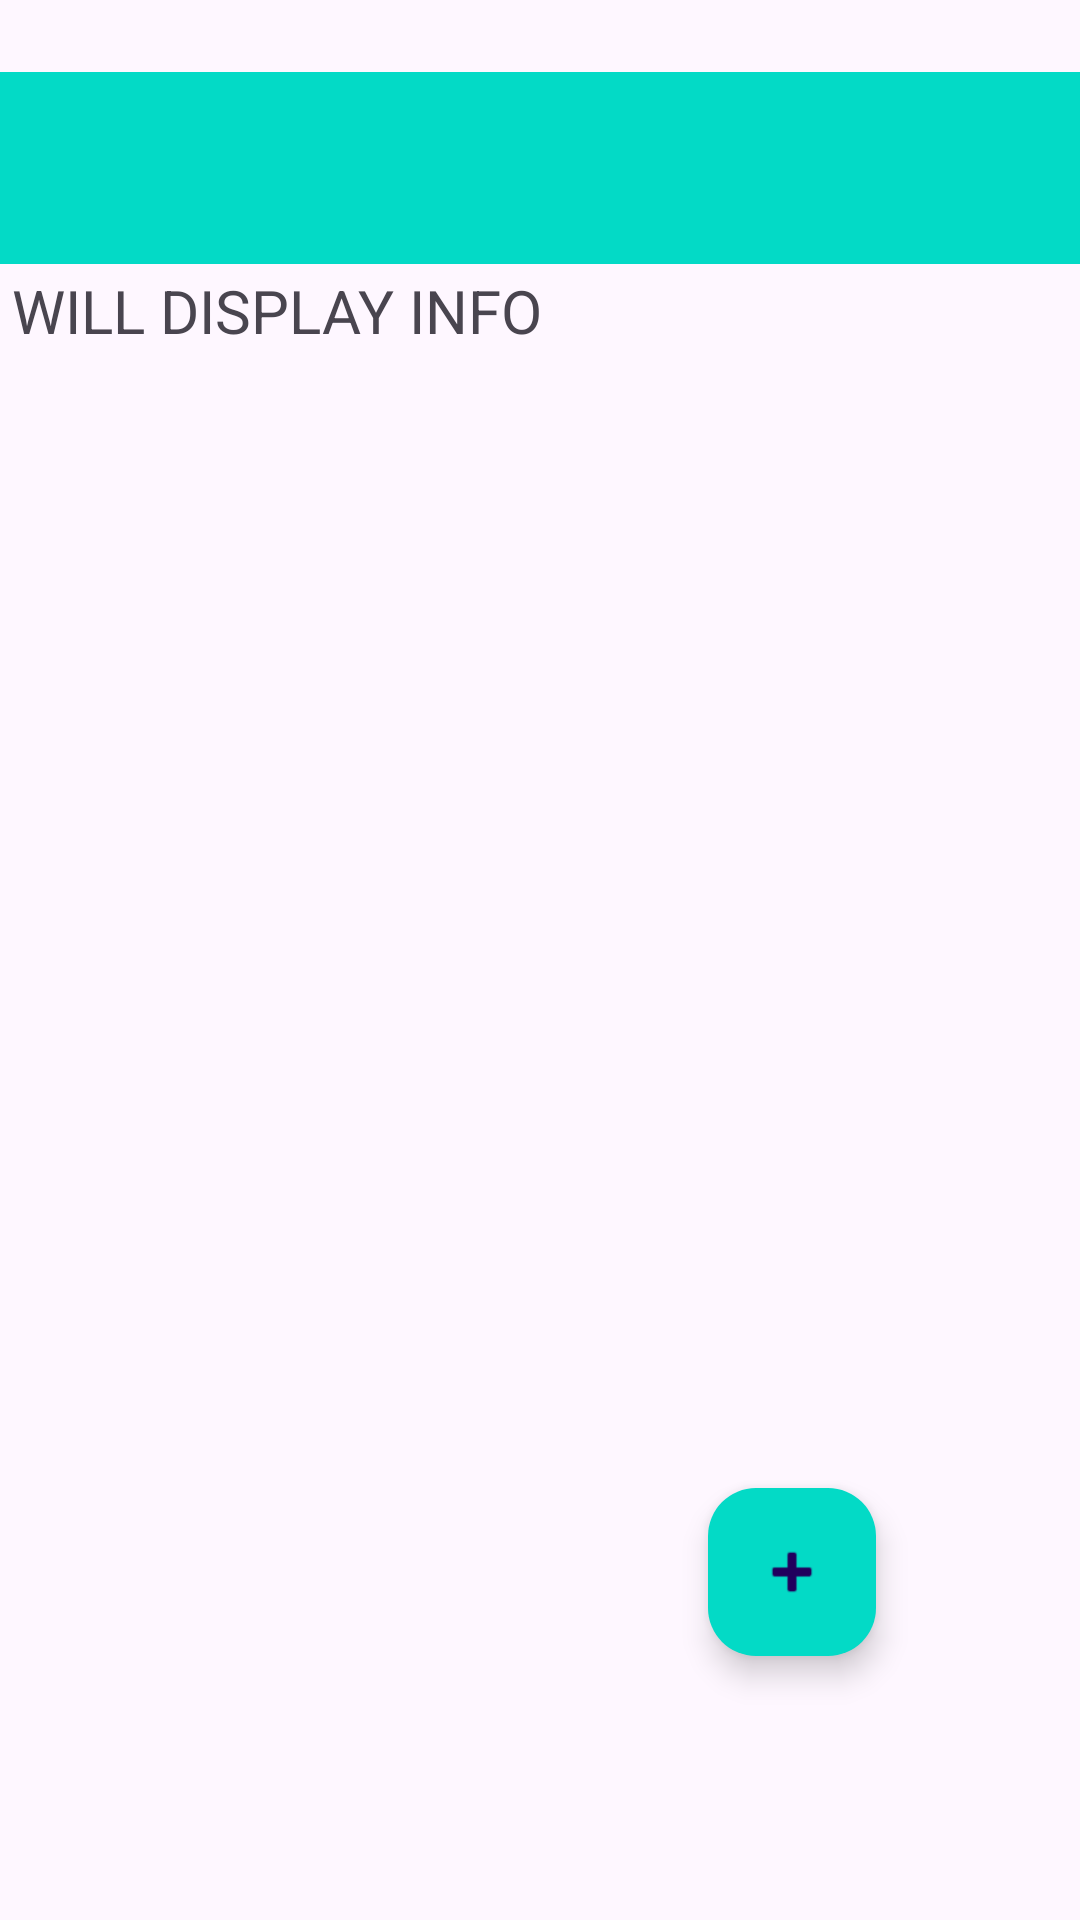

Locate icon controls on the screen. Image size 1080w x 1920h, boxes as bbox(x1, y1, x2, y2).
add: bbox(708, 1488, 876, 1656)
